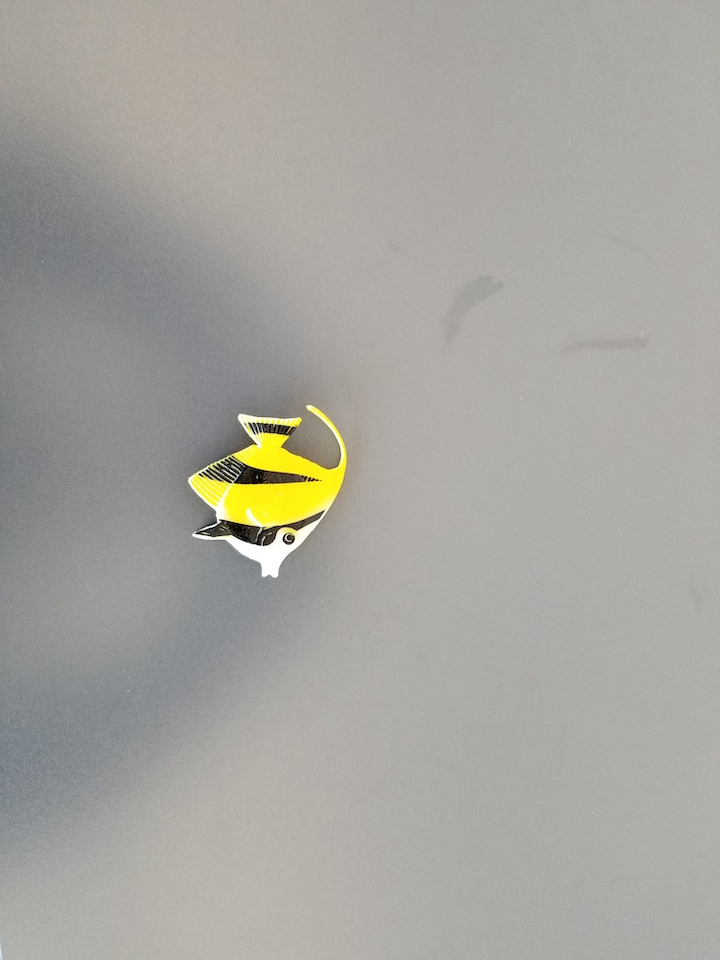danger: (189, 398, 350, 583)
